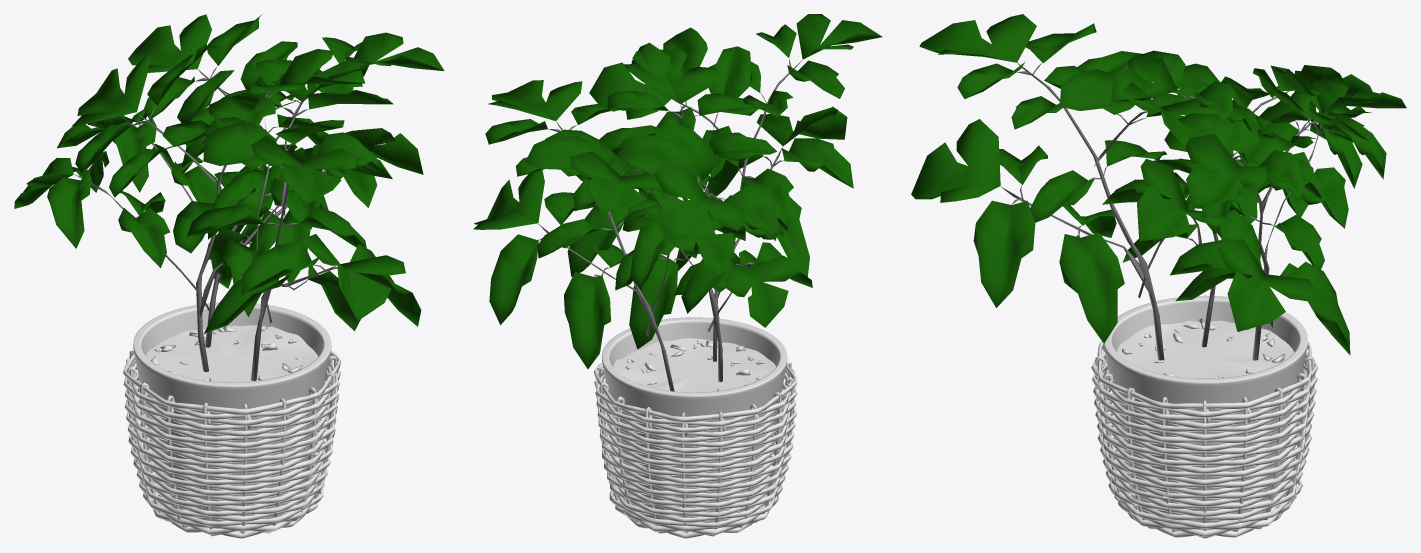
The model's file is Coriander.fbx.
3 views of the same model, side by side, from view 1: azimuth 30°, elevation 25°; view 2: azimuth 150°, elevation 25°; view 3: azimuth 270°, elevation 25° (orthographic). The views are drawn at different scales.
Parts seen in each view (by area): view 1: Plant_Coriander_A_spring-summer-autumn.003, Vase_Weaved-Wicker-Shell_A_spring-summer-autumn.001; view 2: Plant_Coriander_A_spring-summer-autumn.003, Vase_Weaved-Wicker-Shell_A_spring-summer-autumn.001; view 3: Plant_Coriander_A_spring-summer-autumn.003, Vase_Weaved-Wicker-Shell_A_spring-summer-autumn.001.
Part boxes in pixels (<box>): Plant_Coriander_A_spring-summer-autumn.003: <box>14,14,444,380</box>; Vase_Weaved-Wicker-Shell_A_spring-summer-autumn.001: <box>123,302,341,538</box>; Plant_Coriander_A_spring-summer-autumn.003: <box>473,14,882,391</box>; Vase_Weaved-Wicker-Shell_A_spring-summer-autumn.001: <box>594,317,797,538</box>; Plant_Coriander_A_spring-summer-autumn.003: <box>911,14,1406,360</box>; Vase_Weaved-Wicker-Shell_A_spring-summer-autumn.001: <box>1091,295,1318,538</box>.
Bounding box in the file's own units: 41.08 × 48.52 × 46.55.
